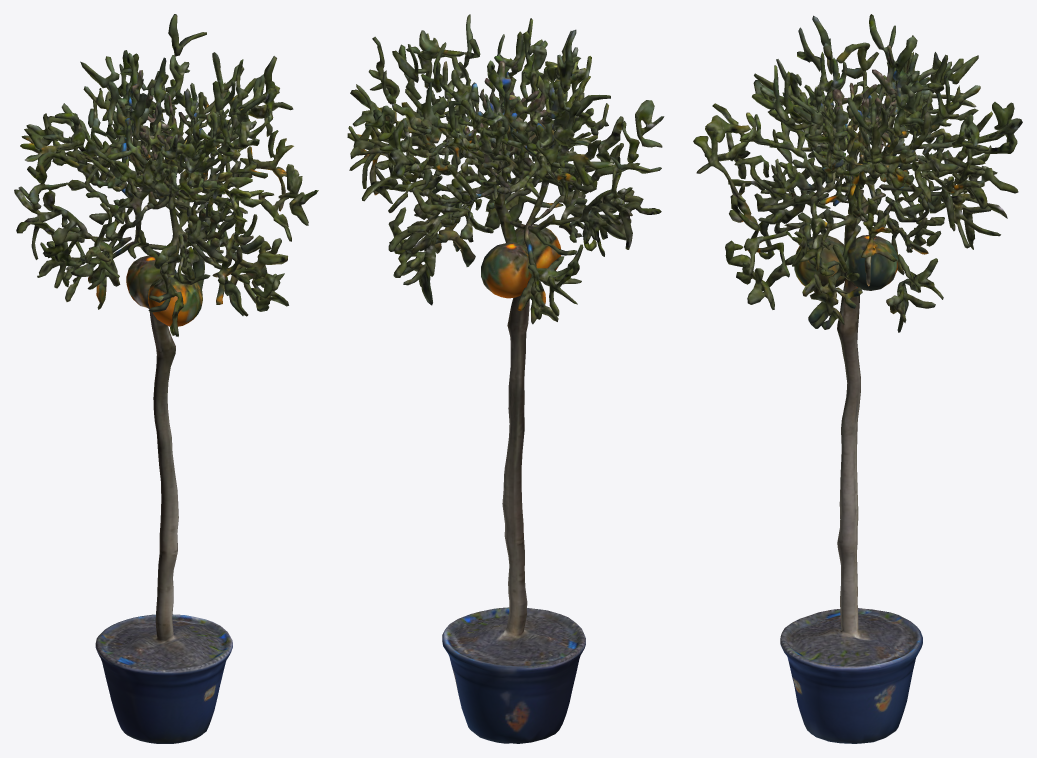
Rendered from tree0028.gltf.
3 renders of one model, left to right at view 1: azimuth 30°, elevation 25°; view 2: azimuth 150°, elevation 25°; view 3: azimuth 270°, elevation 25°, orthographic. The views are drawn at different scales.
Visible parts, largest first — view 1: Mesh_0.029; view 2: Mesh_0.029; view 3: Mesh_0.029.
Part boxes in pixels (x1,y1,x2,y2): Mesh_0.029: (14,14,318,743); Mesh_0.029: (347,14,664,743); Mesh_0.029: (693,14,1022,743).
Bounding box in the file's own units: 0.8862 × 1.99 × 0.8494.
Materials: 1 (1 with a texture image).
